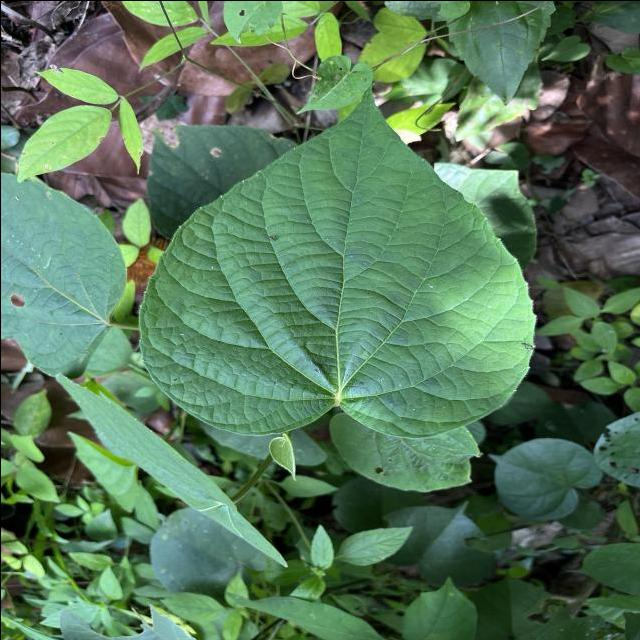Clerodendrum infortunatum: (133, 78, 542, 442)
